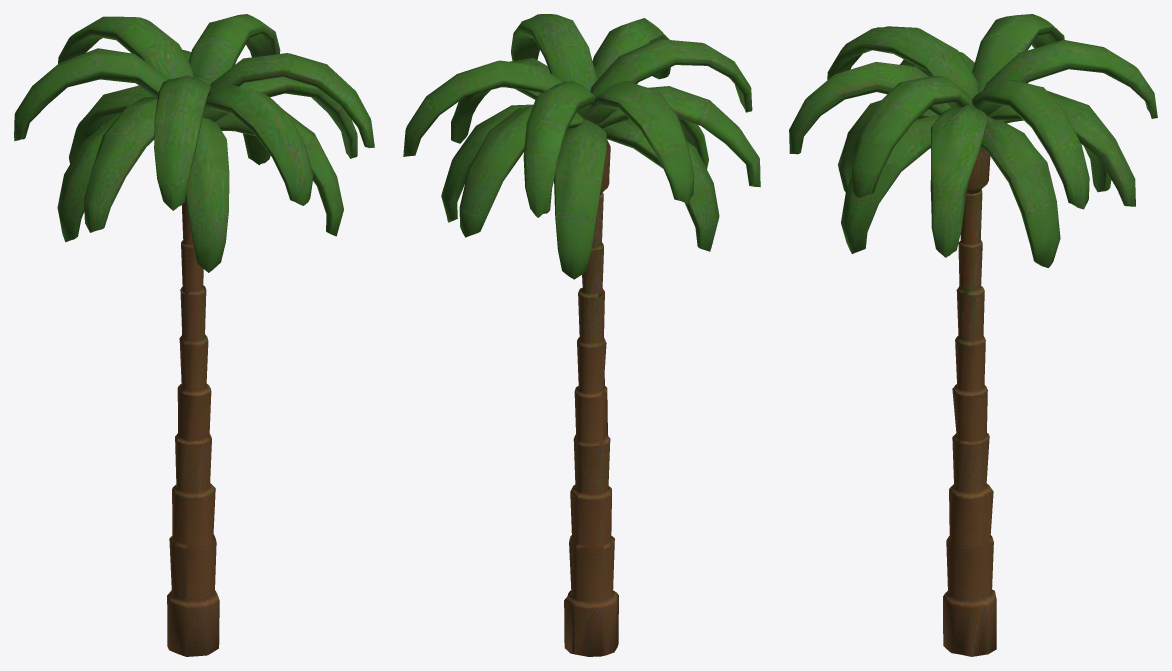
File: 43-palm-tree.glb
3 renders of one model, left to right at view 1: azimuth 30°, elevation 25°; view 2: azimuth 150°, elevation 25°; view 3: azimuth 270°, elevation 25°, orthographic.
Parts seen in each view (by area): view 1: geometry_0; view 2: geometry_0; view 3: geometry_0.
Boxes of the visible parts, left/top/right/bottom form: geometry_0: left=14, top=14, right=374, bottom=656; geometry_0: left=403, top=14, right=760, bottom=656; geometry_0: left=789, top=14, right=1157, bottom=656.
Bounding box in the file's own units: 0.4824 × 0.9521 × 0.5328.
Materials: 1 (1 with a texture image).
